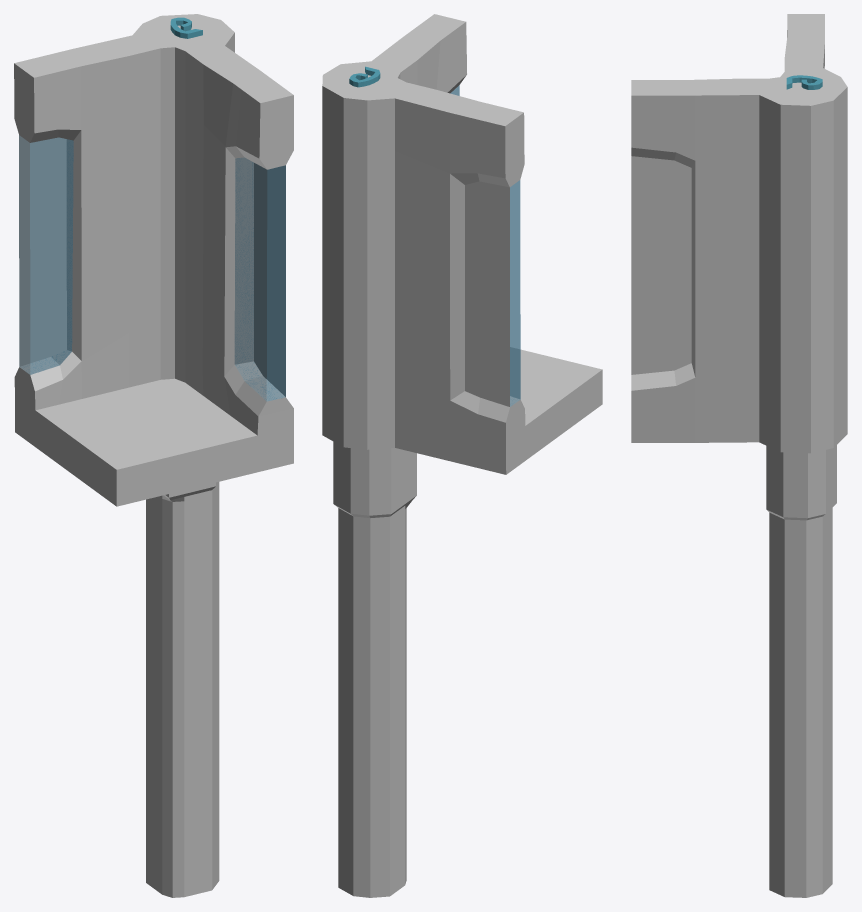
Rendered from RoomCorner.obj.
3 renders of one model, left to right at view 1: azimuth 30°, elevation 25°; view 2: azimuth 150°, elevation 25°; view 3: azimuth 270°, elevation 25°, orthographic. The views are drawn at different scales.
Visible parts, largest first — view 1: Corner_Cube, ExteriorCorner_Cube.006, CornerWindows_Cube.004, CornerWindowsExterior_Cube.007, CornerFloor_Cube.008; view 2: ExteriorCorner_Cube.006, Corner_Cube, CornerWindowsExterior_Cube.007, CornerFloor_Cube.008, CornerWindows_Cube.004; view 3: ExteriorCorner_Cube.006, CornerWindowsExterior_Cube.007, Corner_Cube.
Boxes of the visible parts, box(x1,y1,x2,y2) form: Corner_Cube: box(14, 14, 293, 506); ExteriorCorner_Cube.006: box(146, 33, 234, 897); CornerWindows_Cube.004: box(19, 135, 285, 401); CornerWindowsExterior_Cube.007: box(19, 135, 285, 396); CornerFloor_Cube.008: box(36, 378, 256, 469); ExteriorCorner_Cube.006: box(322, 86, 509, 897); Corner_Cube: box(322, 14, 602, 474); CornerWindowsExterior_Cube.007: box(465, 181, 509, 406); CornerFloor_Cube.008: box(510, 347, 602, 425); CornerWindows_Cube.004: box(450, 85, 520, 406); ExteriorCorner_Cube.006: box(631, 45, 847, 897); CornerWindowsExterior_Cube.007: box(631, 156, 691, 374); Corner_Cube: box(631, 14, 847, 105).
Bounding box in the file's own units: 2.27 × 9.27 × 2.26.
